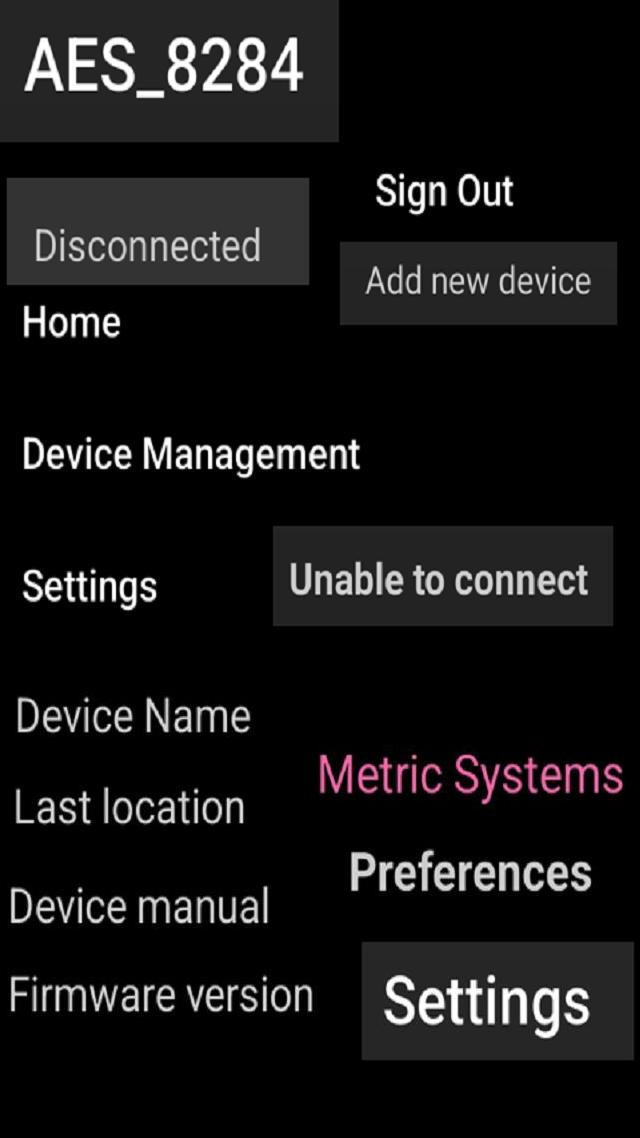Text: (25, 32, 307, 100), (311, 748, 632, 807), (17, 432, 365, 480), (5, 970, 317, 1020), (380, 971, 598, 1041), (284, 555, 592, 603), (340, 847, 596, 899), (7, 882, 276, 930), (12, 780, 248, 830), (14, 694, 255, 740), (360, 260, 595, 300), (32, 226, 264, 265), (373, 170, 525, 220), (19, 565, 164, 613), (17, 300, 124, 343)
